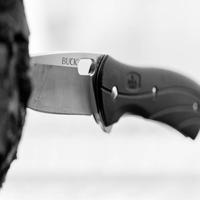knife: (21, 50, 200, 136)
